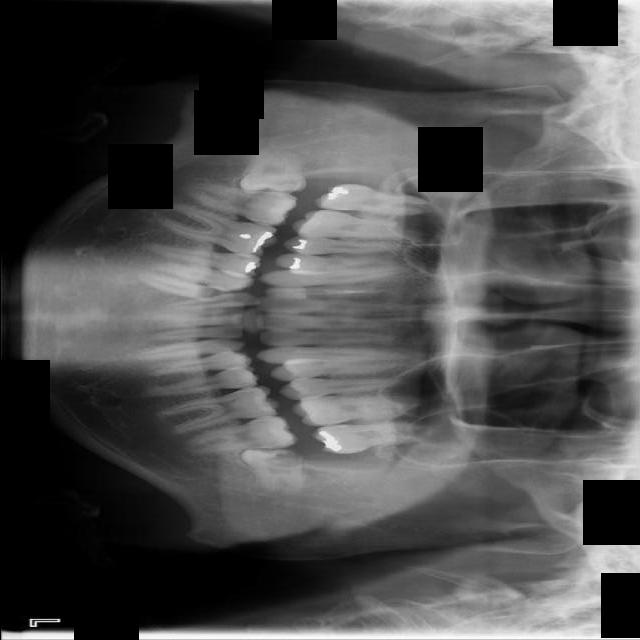52: (221, 208, 281, 266), (313, 181, 368, 212), (309, 423, 364, 454), (217, 253, 259, 278), (274, 253, 321, 275), (283, 232, 321, 257)
73: (34, 604, 42, 609)
BioHorizons Implant: (309, 421, 430, 456)
Biomet 3i Implant: (238, 446, 305, 499)
Blue Sky Bio Implant: (180, 412, 299, 456)
Caries: (313, 182, 427, 215)
Implant: (185, 176, 300, 232)
Keystone Dental Implant: (241, 146, 308, 198)
